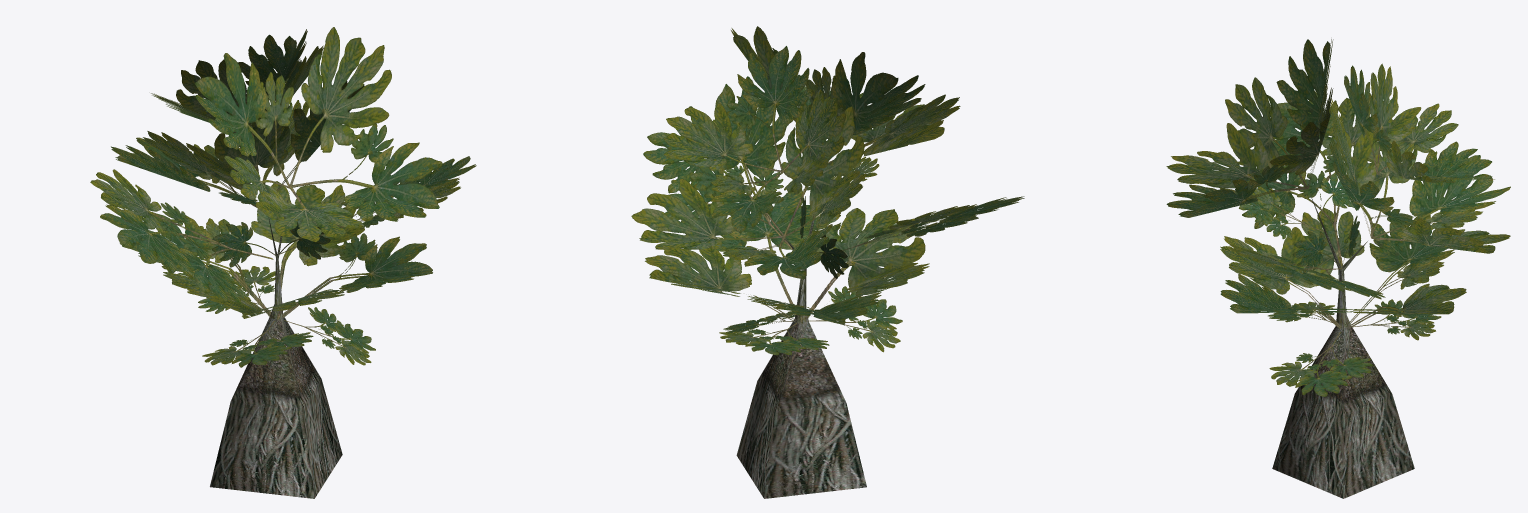
File: leaf_palmbush_l1.fbx
3 views of the same model, side by side, from view 1: azimuth 30°, elevation 25°; view 2: azimuth 150°, elevation 25°; view 3: azimuth 270°, elevation 25° (orthographic). The views are drawn at different scales.
Parts seen in each view (by area): view 1: mesh_node; view 2: mesh_node; view 3: mesh_node.
Part boxes in pixels (box(x1,y1,x2,y2)): mesh_node: box(90, 27, 476, 498); mesh_node: box(631, 26, 1024, 498); mesh_node: box(1166, 39, 1510, 498).
Size of the model in its own units: 3.74 by 3.74 by 3.18.
